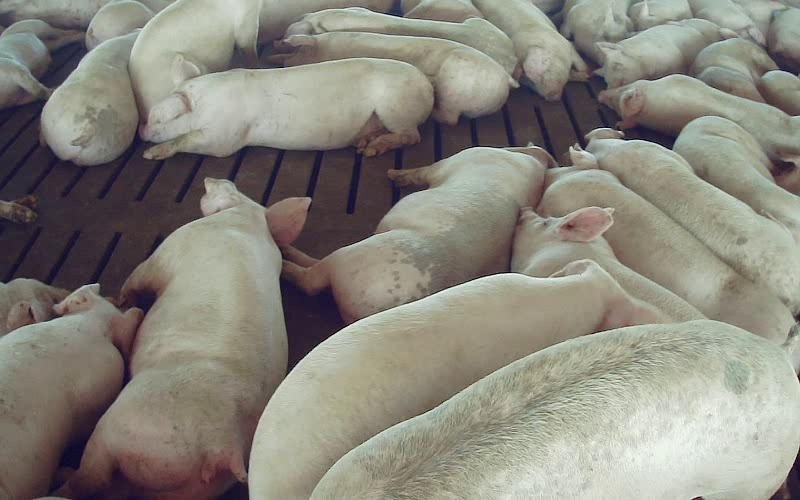pig: (251, 260, 664, 499), (312, 322, 799, 499), (63, 180, 307, 499), (283, 146, 554, 322), (586, 128, 799, 312), (0, 285, 141, 499), (140, 56, 433, 158), (272, 32, 517, 124), (512, 207, 704, 321), (598, 74, 799, 160), (673, 116, 799, 244), (285, 7, 517, 74), (41, 32, 138, 165), (474, 0, 589, 100), (595, 19, 722, 87), (0, 19, 84, 109), (691, 27, 776, 101)
